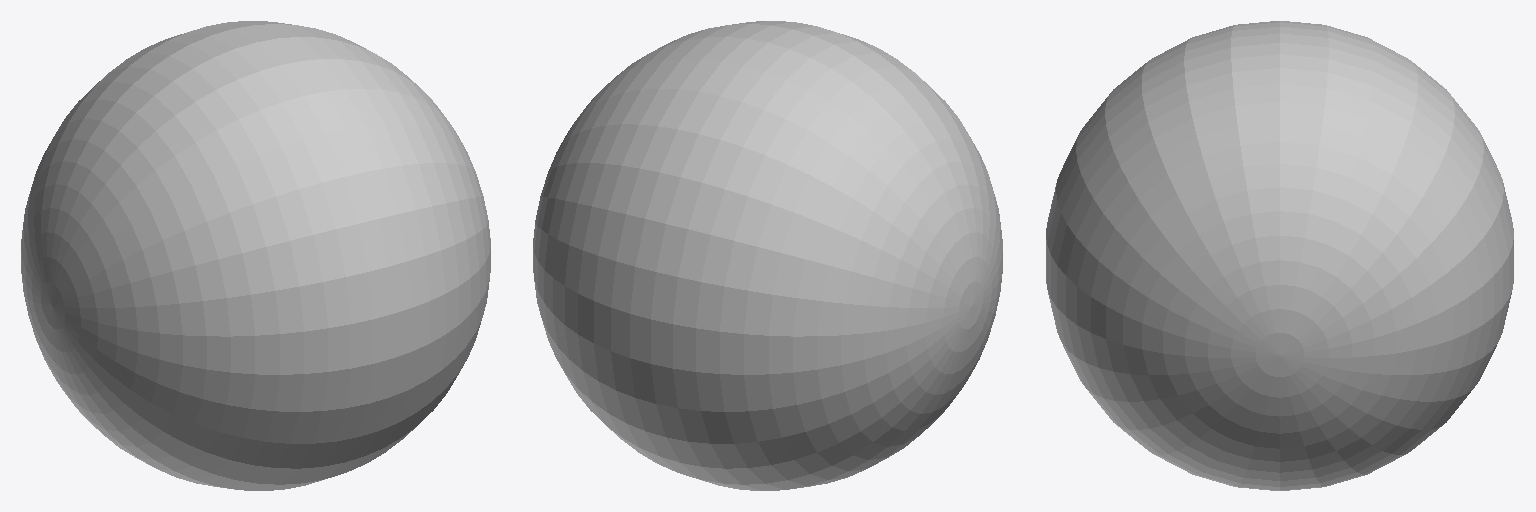
The model's file is sphereMesh.obj.
3 renders of one model, left to right at view 1: azimuth 30°, elevation 25°; view 2: azimuth 150°, elevation 25°; view 3: azimuth 270°, elevation 25°, orthographic.
Visible parts, largest first — view 1: pSphere1; view 2: pSphere1; view 3: pSphere1.
Part boxes in pixels (x1,y1,x2,y2): pSphere1: (21, 21, 490, 490); pSphere1: (533, 21, 1002, 490); pSphere1: (1046, 21, 1513, 490).
Size of the model in its own units: 2 by 2 by 1.99.